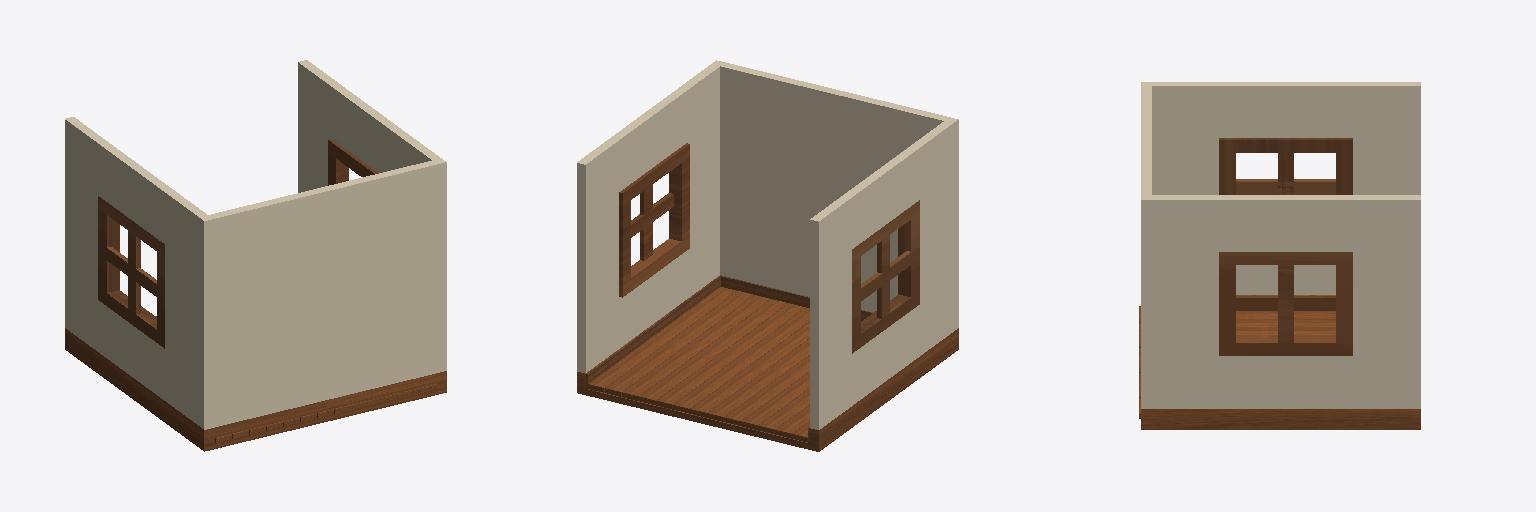
3 views of the same model, side by side, from view 1: azimuth 30°, elevation 25°; view 2: azimuth 150°, elevation 25°; view 3: azimuth 270°, elevation 25° (orthographic).
Parts seen in each view (by area): view 1: Room_Cube, Tile_Cube.003; view 2: Room_Cube, Tile_Cube.003; view 3: Room_Cube, Tile_Cube.003.
Part boxes in pixels (x1,y1,x2,y2): Room_Cube: (65, 60, 446, 451); Tile_Cube.003: (156, 316, 436, 442); Room_Cube: (577, 60, 958, 451); Tile_Cube.003: (588, 287, 809, 441); Room_Cube: (1141, 82, 1420, 429); Tile_Cube.003: (1139, 306, 1335, 418).
Bounding box in the file's own units: 20 × 18.19 × 20.09.
2 materials, 1 textured.